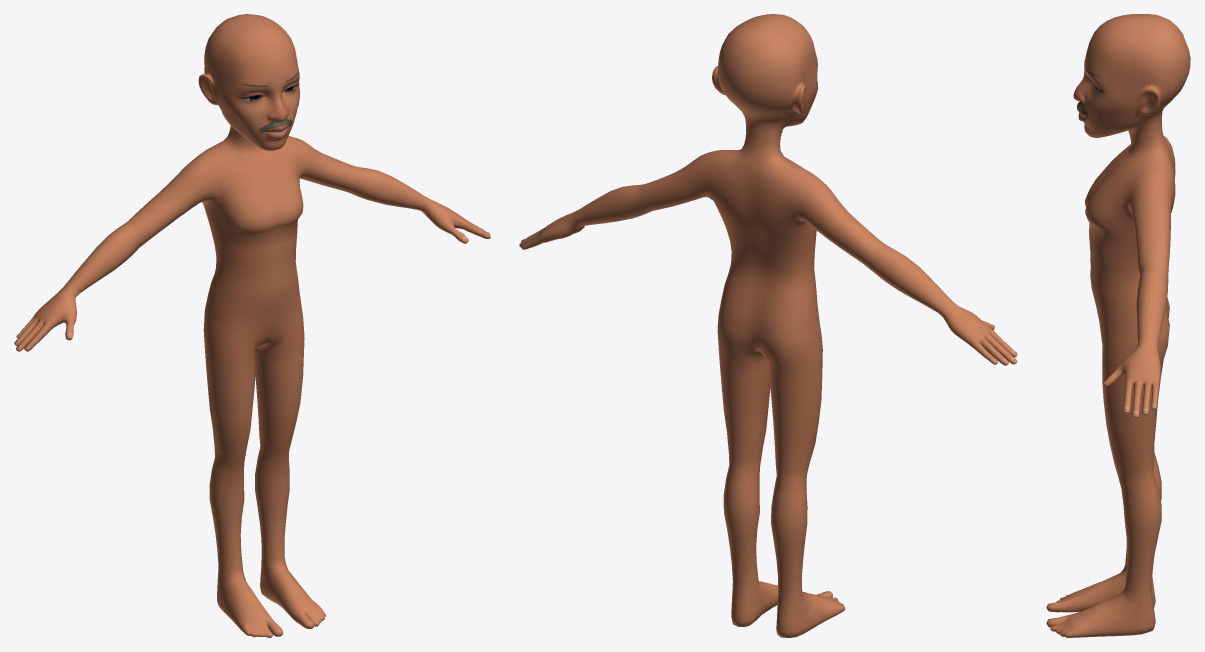
File: frame_0026.glb
3 views of the same model, side by side, from view 1: azimuth 30°, elevation 25°; view 2: azimuth 150°, elevation 25°; view 3: azimuth 270°, elevation 25° (orthographic). The views are drawn at different scales.
Parts seen in each view (by area): view 1: frame_0026_head_geo; view 2: frame_0026_head_geo; view 3: frame_0026_head_geo.
Part boxes in pixels (x1=…): frame_0026_head_geo: x1=14, y1=14, x2=490, y2=637; frame_0026_head_geo: x1=519, y1=14, x2=1017, y2=637; frame_0026_head_geo: x1=1046, y1=14, x2=1190, y2=637.
Size of the model in its own units: 1.28 by 1.5 by 0.3253.
3 materials, 3 textured.
